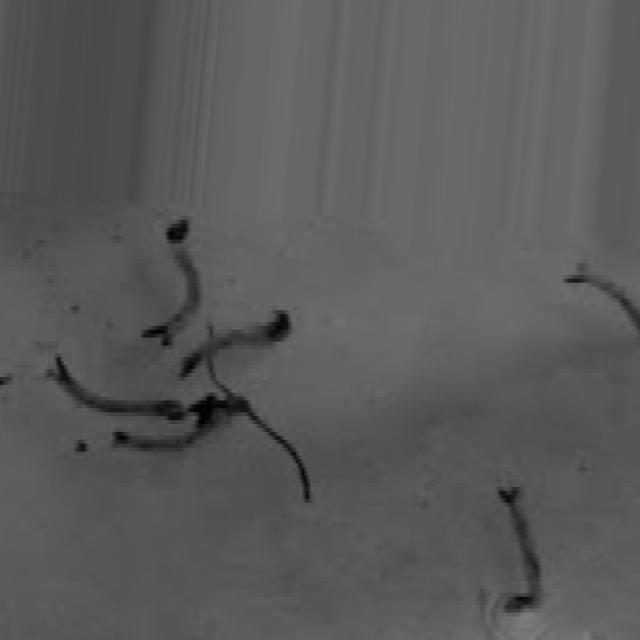larvas: (48, 352, 184, 420), (185, 308, 291, 376), (142, 220, 201, 342), (497, 487, 541, 613), (569, 262, 640, 332), (114, 411, 217, 457), (162, 466, 164, 471)
